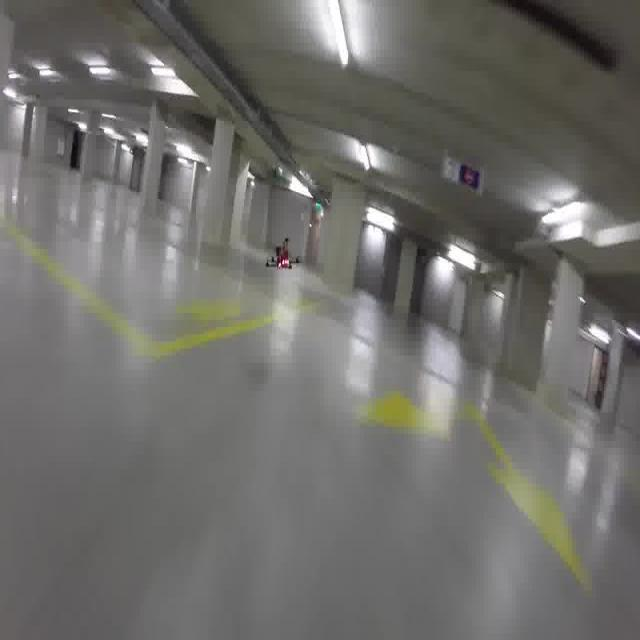drone: (267, 234, 303, 272)
